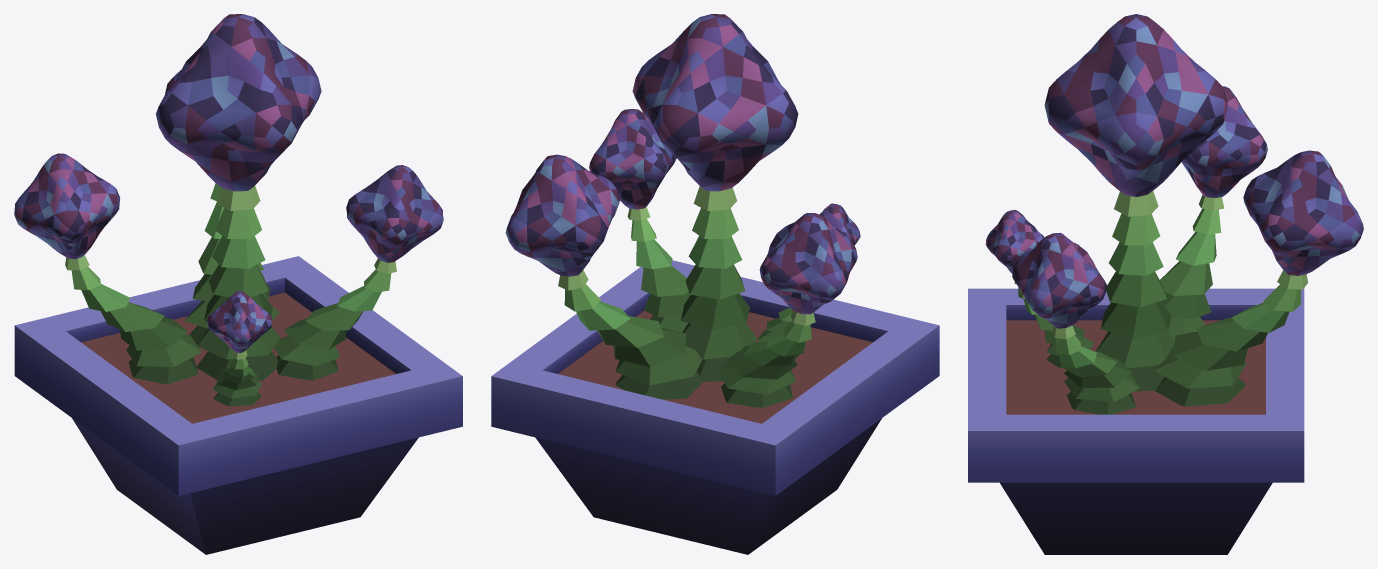
The model's file is wp_wPot_24.fbx.
3 views of the same model, side by side, from view 1: azimuth 30°, elevation 25°; view 2: azimuth 150°, elevation 25°; view 3: azimuth 270°, elevation 25° (orthographic). The views are drawn at different scales.
Parts seen in each view (by area): view 1: w_pl24; view 2: w_pl24; view 3: w_pl24.
Part boxes in pixels (<box>): w_pl24: <box>14,14,462,554</box>; w_pl24: <box>491,14,939,554</box>; w_pl24: <box>968,14,1363,554</box>.
Bounding box in the file's own units: 129 × 180 × 130.
